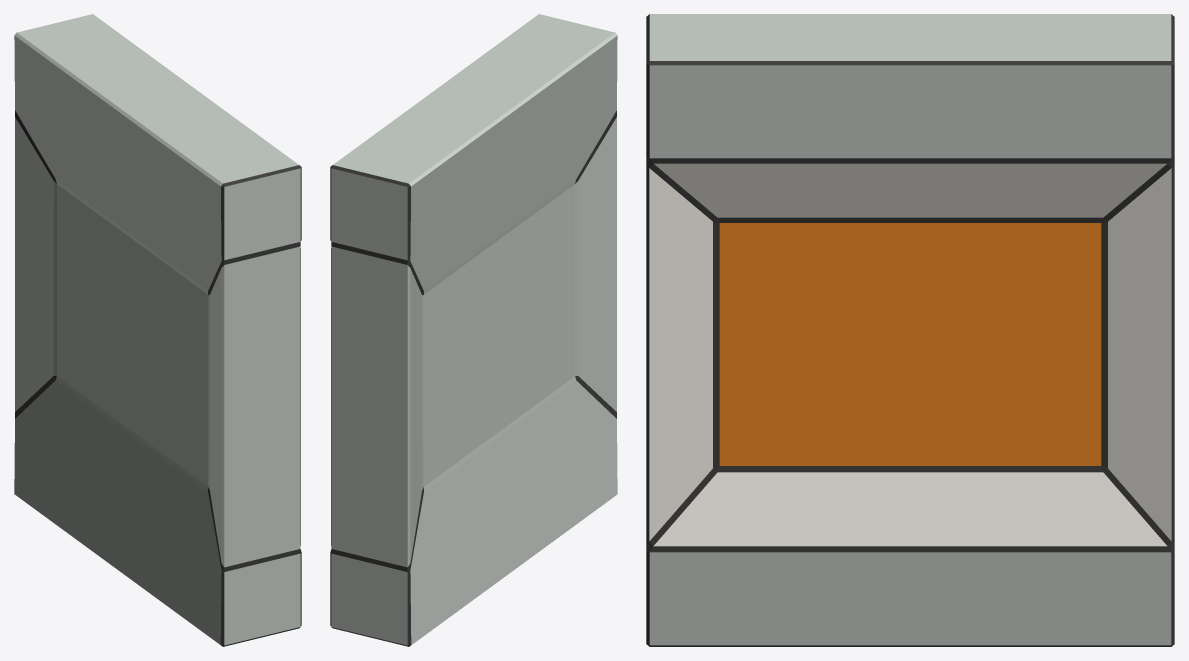
File: Parede (1).fbx
3 renders of one model, left to right at view 1: azimuth 30°, elevation 25°; view 2: azimuth 150°, elevation 25°; view 3: azimuth 270°, elevation 25°, orthographic. The views are drawn at different scales.
Visible parts, largest first — view 1: Parede; view 2: Parede; view 3: Parede.
Boxes of the visible parts, x1,y1,x2,y2 form: Parede: (14,14,301,646); Parede: (330,14,617,646); Parede: (646,14,1174,646).
Bounding box in the file's own units: 36.25 × 198 × 162.
